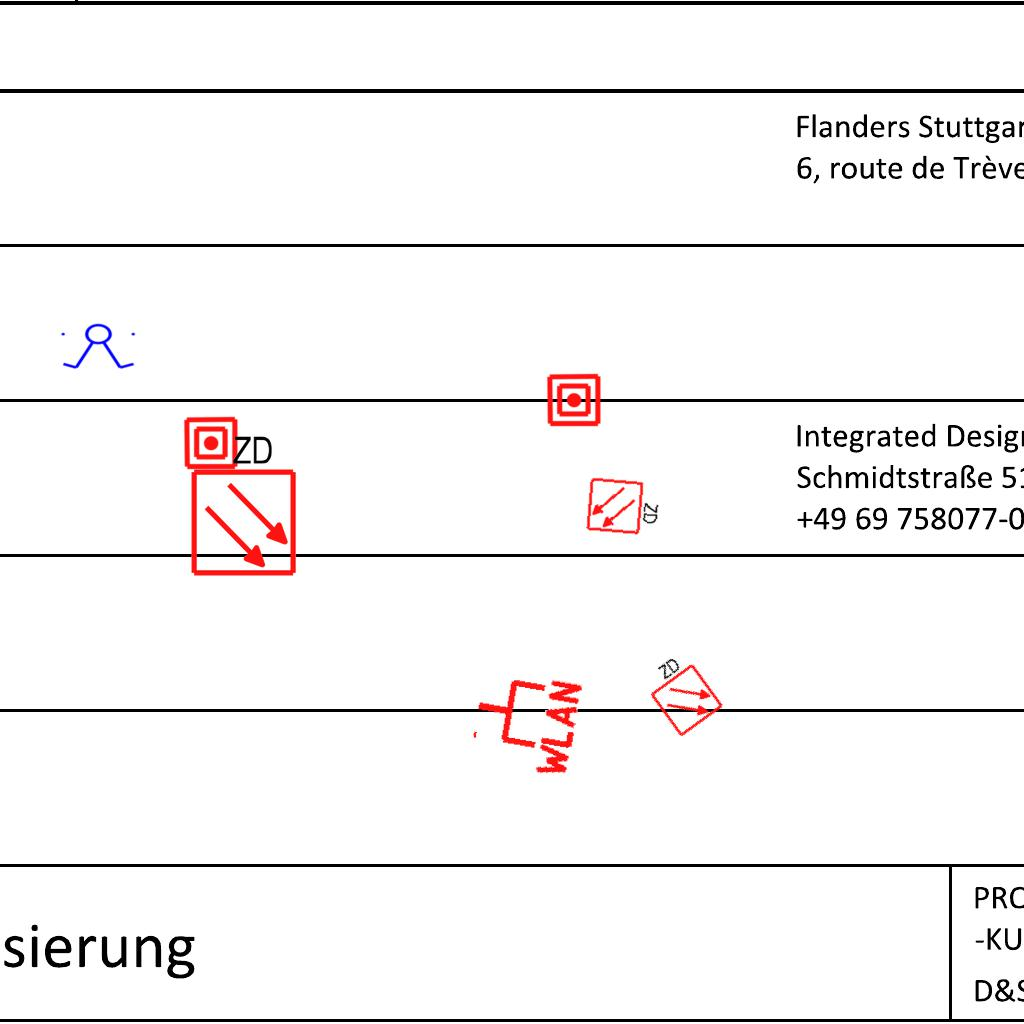NAM-Nichtautomatischer_Melder: (546, 372, 602, 428), (183, 415, 239, 471)
Serienschalter: (57, 323, 141, 371)
WLAN: (463, 662, 586, 784)
ZD_Melder_in_Zwischendecke_mit_Revisionsoeffnung_mind_40_x_40_cm: (185, 429, 299, 578), (635, 646, 726, 740), (585, 474, 664, 538)
